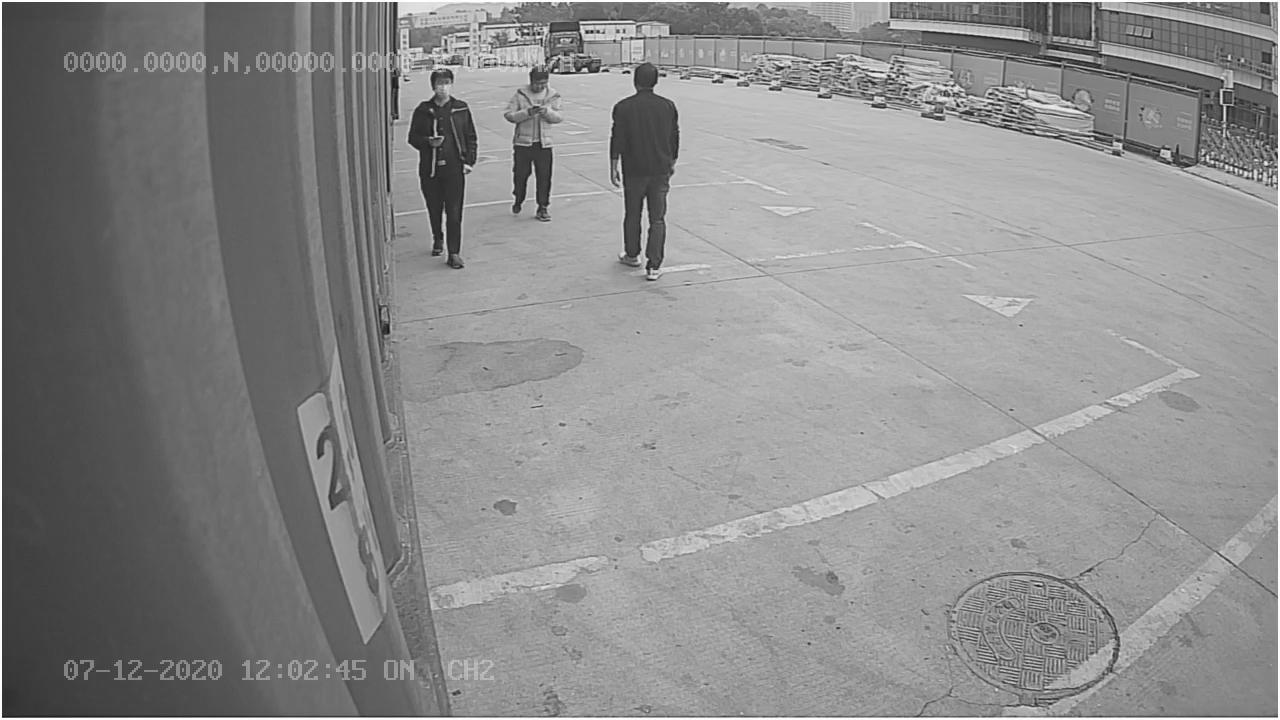person: (607, 62, 686, 283)
